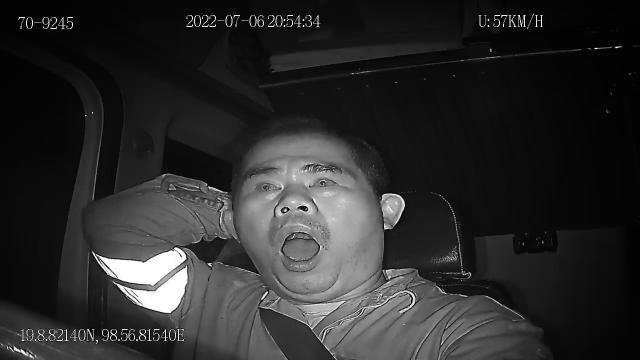SafeDriving: (300, 162, 346, 194), (250, 172, 287, 198)
Seatbelt: (257, 305, 339, 360)
